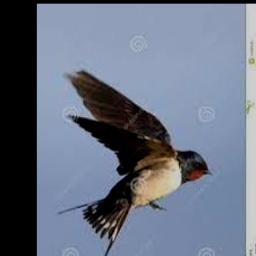Swallow: (57, 69, 212, 256)
